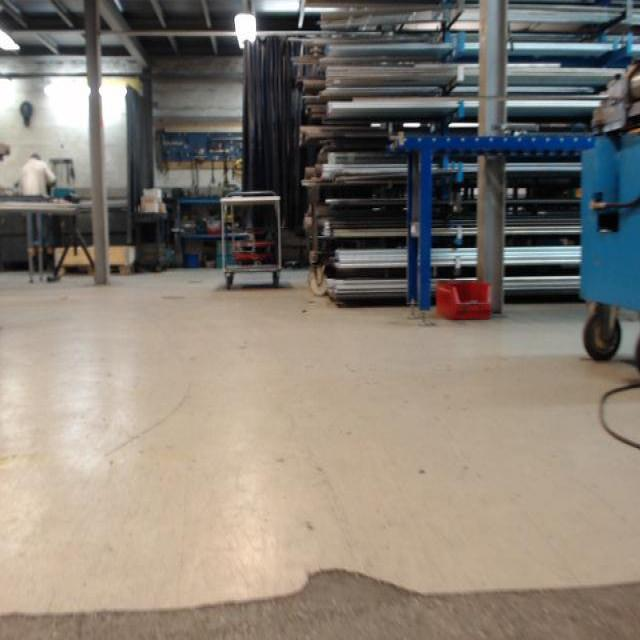pallet: (54, 263, 140, 278)
